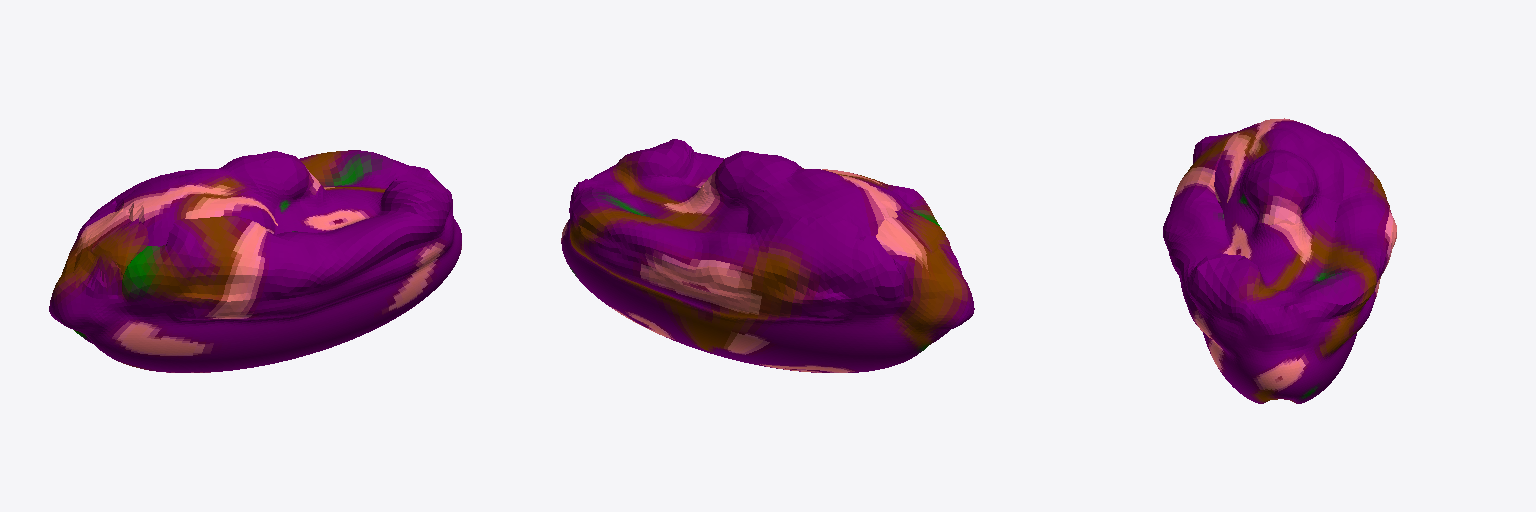
The picture shows the model from 3 angles: view 1: azimuth 30°, elevation 25°; view 2: azimuth 150°, elevation 25°; view 3: azimuth 270°, elevation 25°; orthographic projection.
Visible parts, largest first — view 1: Icosphere; view 2: Icosphere; view 3: Icosphere.
Part boxes in pixels (bbox=[...]): Icosphere: bbox=[49, 150, 461, 372]; Icosphere: bbox=[561, 139, 974, 372]; Icosphere: bbox=[1163, 118, 1396, 403].
Bounding box in the file's own units: 28.11 × 13 × 14.15.
1 materials, 1 textured.